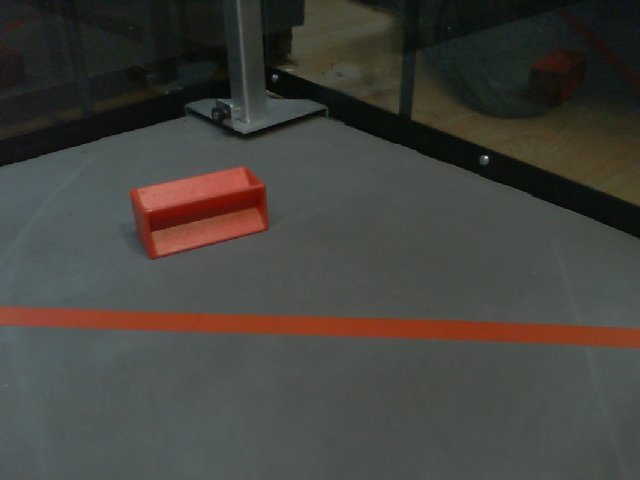RedSample: (128, 161, 270, 262)
